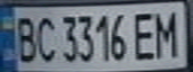1: (93, 11, 112, 62)
3: (57, 11, 78, 63), (75, 11, 96, 62)
6: (109, 9, 133, 62)
B: (9, 11, 39, 64)
C: (33, 12, 57, 64)
E: (130, 8, 160, 61)
M: (151, 7, 184, 58)
